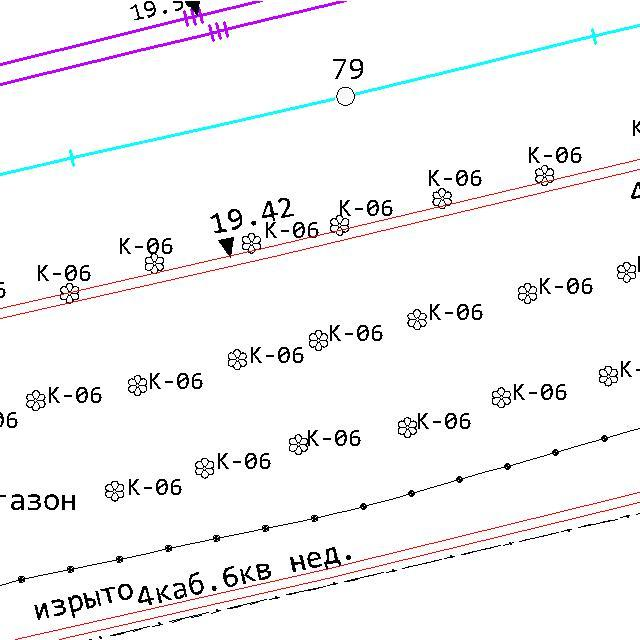bushes: (24, 388, 47, 413), (490, 385, 513, 410), (328, 213, 351, 237), (396, 416, 419, 440), (597, 364, 620, 388), (126, 373, 148, 398), (226, 347, 248, 372), (240, 232, 263, 255), (533, 164, 556, 187), (58, 282, 80, 306), (431, 186, 453, 210), (406, 308, 428, 332), (516, 281, 538, 305), (616, 260, 638, 284), (103, 479, 125, 503), (193, 456, 215, 480), (287, 432, 309, 456), (143, 252, 165, 275), (308, 328, 329, 352)
mark: (217, 234, 236, 260)
well: (334, 84, 356, 109)
